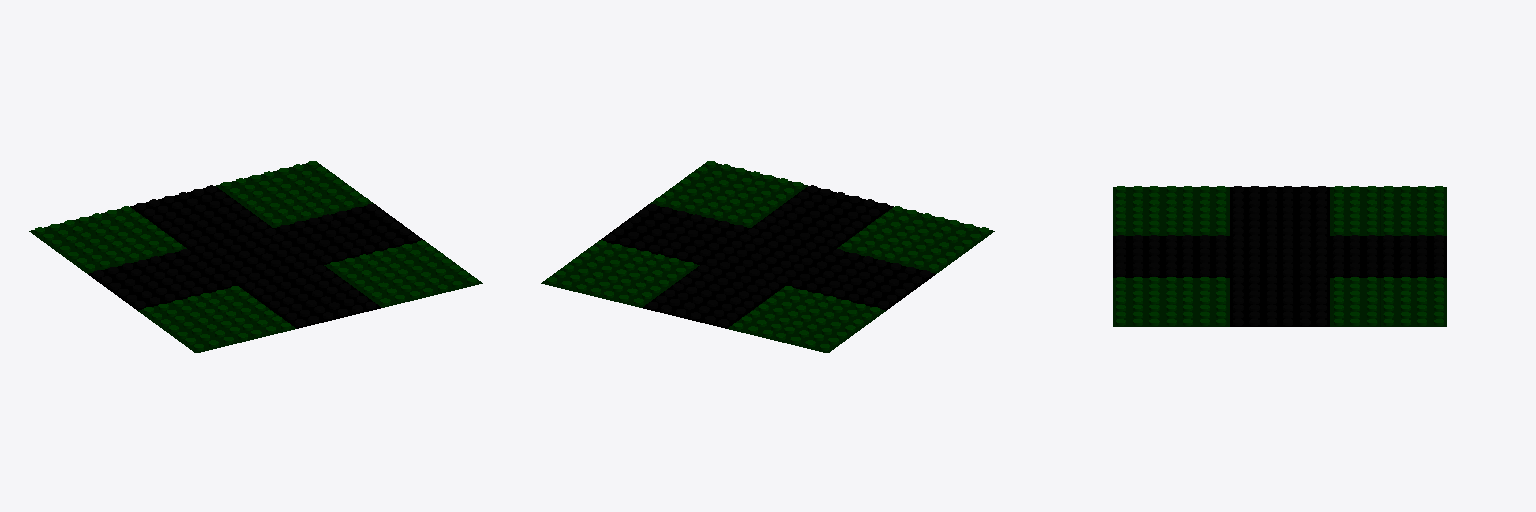
File: rua_cruzamento_terreno.obj
The picture shows the model from 3 angles: view 1: azimuth 30°, elevation 25°; view 2: azimuth 150°, elevation 25°; view 3: azimuth 270°, elevation 25°; orthographic projection.
Visible parts, largest first — view 1: Cylinder.008, Cylinder.001, Cylinder.000, Cylinder.003, Cylinder.002; view 2: Cylinder.008, Cylinder.001, Cylinder.000, Cylinder.003, Cylinder.002; view 3: Cylinder.008, Cylinder.001, Cylinder.000, Cylinder.003, Cylinder.002.
Boxes of the visible parts, <box> form: Cylinder.008: <box>29,161,482,352</box>; Cylinder.001: <box>136,185,375,325</box>; Cylinder.000: <box>130,187,381,328</box>; Cylinder.003: <box>93,204,418,307</box>; Cylinder.002: <box>88,206,424,310</box>; Cylinder.008: <box>541,161,994,352</box>; Cylinder.001: <box>648,185,887,325</box>; Cylinder.000: <box>642,187,893,328</box>; Cylinder.003: <box>605,204,930,307</box>; Cylinder.002: <box>599,206,935,310</box>; Cylinder.008: <box>1113,186,1446,326</box>; Cylinder.001: <box>1116,235,1443,276</box>; Cylinder.000: <box>1113,236,1446,277</box>; Cylinder.003: <box>1233,186,1326,325</box>; Cylinder.002: <box>1230,187,1329,326</box>.
Bounding box in the file's own units: 17.43 × 0.1882 × 17.58.